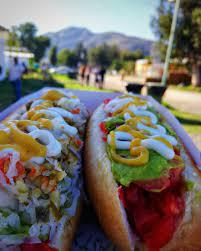Completos: (85, 85, 201, 251), (0, 85, 100, 251)
